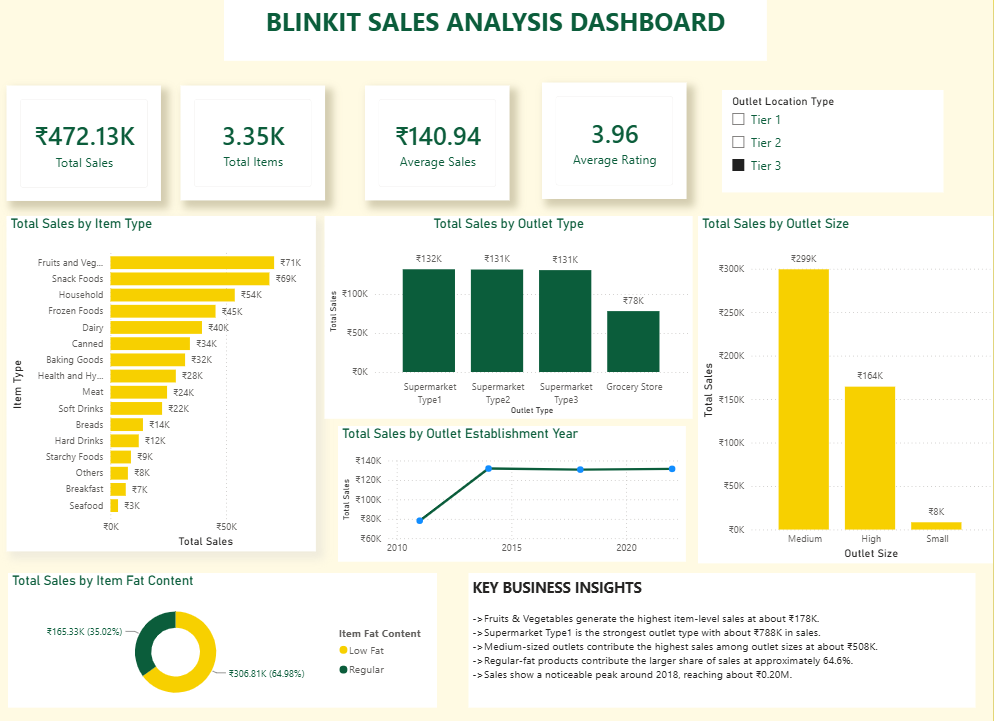

The page's visual inventory and layout, read from the dashboard file:
{"tool":"powerbi","page":{"name":"Page 1","canvas":[1280,930],"ordinal":0},"visuals":[{"type":"cardVisual","fields":{"Data":["blinkit_cleaned.Total Sales"]},"box":[13.5,109.6,198.1,148.1],"z":0},{"type":"cardVisual","fields":{"Data":["blinkit_cleaned.Average Sales"]},"box":[472.5,108.8,185.2,147.4],"z":1},{"type":"cardVisual","fields":{"Data":["blinkit_cleaned.Average Rating"]},"box":[700,106.2,185.2,149.3],"z":2},{"type":"cardVisual","fields":{"Data":["blinkit_cleaned.Total Items"]},"box":[236.2,108.8,185.2,147.4],"z":3},{"type":"textbox","box":[292,0,696,78],"z":4},{"type":"clusteredBarChart","title":"Total Sales by Item Type","fields":{"Category":["blinkit_cleaned.Item Type"],"Y":["blinkit_cleaned.Total Sales"]},"box":[14,276,396.7,430],"z":5},{"type":"clusteredColumnChart","fields":{"Y":["blinkit_cleaned.Total Sales"],"Category":["blinkit_cleaned.Outlet Type"]},"box":[421.2,276.2,472,260],"z":6},{"type":"clusteredColumnChart","fields":{"Category":["blinkit_cleaned.Outlet Size"],"Y":["blinkit_cleaned.Total Sales"]},"box":[900,277.5,380,445],"z":7},{"type":"donutChart","fields":{"Category":["blinkit_cleaned.Item Fat Content"],"Y":["blinkit_cleaned.Total Sales"]},"box":[15,735,550,172.5],"z":8},{"type":"lineChart","fields":{"Category":["blinkit_cleaned.Outlet Establishment Year"],"Y":["blinkit_cleaned.Total Sales"]},"box":[438.8,546.2,446,174],"z":9},{"type":"slicer","fields":{"Values":["blinkit_cleaned.Outlet Location Type"]},"box":[931.2,116.2,283.8,131.2],"z":10},{"type":"textbox","box":[605,735,650,172.5],"z":11}]}

Visuals, with their boxes in screenshot pixels (x1, y1, x2, y2), scaled from the page's 1280x930 canvas onto the 994x721 screenshot:
cardVisual - blinkit_cleaned.Total Sales: x1=10 y1=85 x2=164 y2=200
cardVisual - blinkit_cleaned.Average Sales: x1=367 y1=84 x2=511 y2=199
cardVisual - blinkit_cleaned.Average Rating: x1=544 y1=82 x2=687 y2=198
cardVisual - blinkit_cleaned.Total Items: x1=183 y1=84 x2=327 y2=199
textbox: x1=227 y1=0 x2=767 y2=60
"Total Sales by Item Type" clusteredBarChart: x1=11 y1=214 x2=319 y2=547
clusteredColumnChart - blinkit_cleaned.Total Sales x blinkit_cleaned.Outlet Type: x1=327 y1=214 x2=694 y2=416
clusteredColumnChart - blinkit_cleaned.Outlet Size x blinkit_cleaned.Total Sales: x1=699 y1=215 x2=993 y2=560
donutChart - blinkit_cleaned.Item Fat Content x blinkit_cleaned.Total Sales: x1=12 y1=570 x2=439 y2=704
lineChart - blinkit_cleaned.Outlet Establishment Year x blinkit_cleaned.Total Sales: x1=341 y1=423 x2=687 y2=558
slicer - blinkit_cleaned.Outlet Location Type: x1=723 y1=90 x2=944 y2=192
textbox: x1=470 y1=570 x2=975 y2=704
